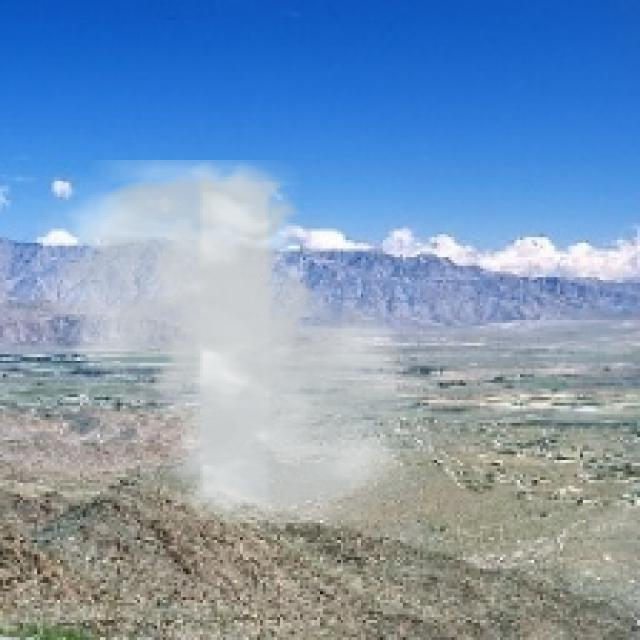Smoke: (37, 160, 432, 523)
